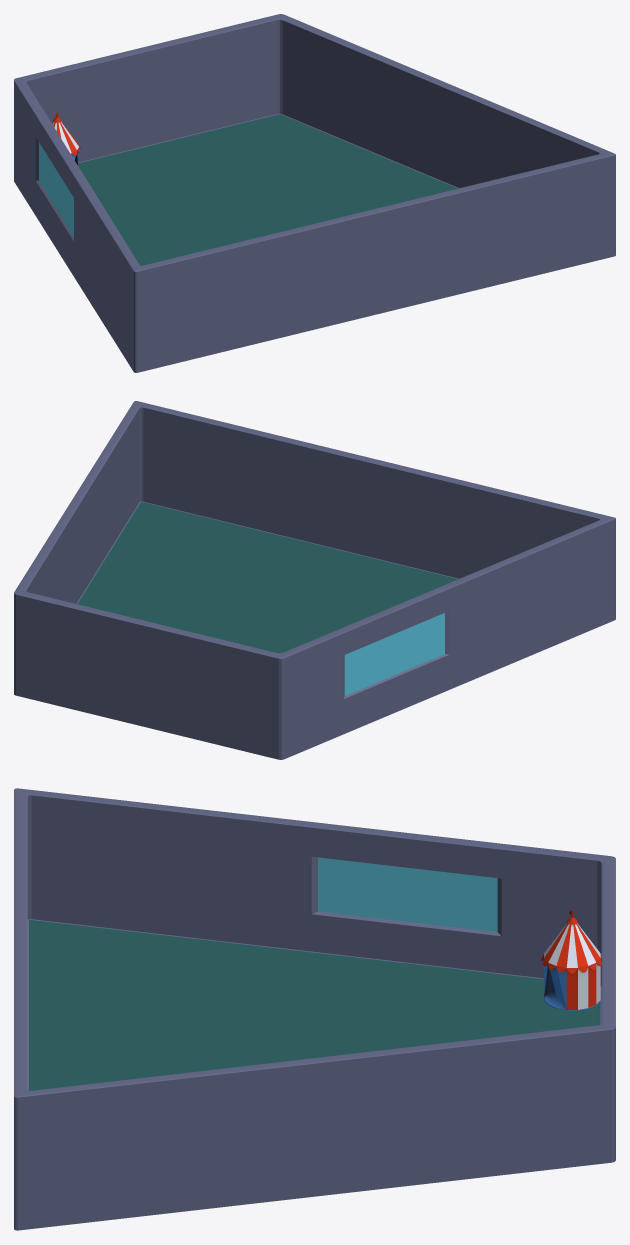
The model's file is SceneNew.TEST.fbx.
3 views of the same model, one above another, from view 1: azimuth 30°, elevation 25°; view 2: azimuth 150°, elevation 25°; view 3: azimuth 270°, elevation 25° (orthographic). The views are drawn at different scales.
Parts seen in each view (by area): view 1: NewScene, NewWindow, Tent; view 2: NewScene, NewWindow; view 3: NewScene, NewWindow, Tent.
Part boxes in pixels (x1,y1,x2,y2): NewScene: (14,14,615,372); NewWindow: (39,142,73,236); Tent: (52,111,80,165); NewScene: (14,401,615,759); NewWindow: (344,613,444,695); NewScene: (14,788,615,1230); NewWindow: (318,857,497,932); Tent: (541,909,601,1010).
Size of what is drawn, in the model's own units: 2470 by 497 by 2033.
